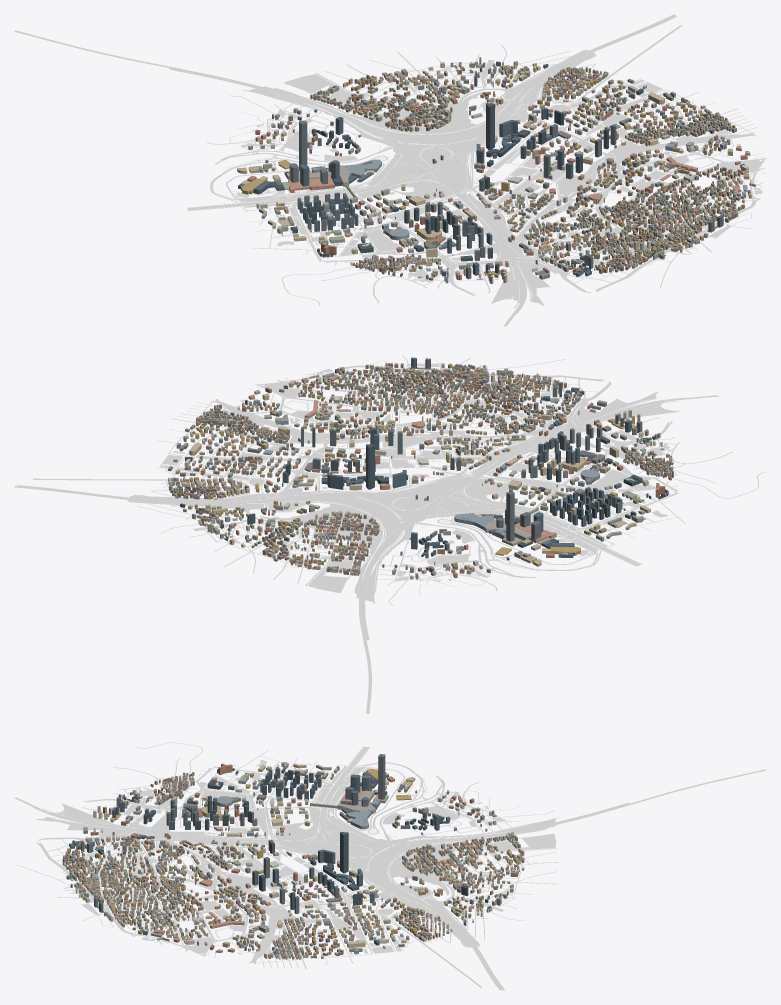
Rendered from city.glb.
The picture shows the model from 3 angles, top to bottom: view 1: azimuth 30°, elevation 25°; view 2: azimuth 150°, elevation 25°; view 3: azimuth 270°, elevation 25°; orthographic projection. The views are drawn at different scales.
Parts seen in each view (by area): view 1: city_buildings, roads, green, plots, rooftops; view 2: city_buildings, roads, green, plots, rooftops; view 3: city_buildings, roads, green, plots, rooftops.
Boxes of the visible parts, x1,y1,x2,y2 form: city_buildings: [237, 57, 755, 283]; roads: [14, 14, 766, 326]; green: [235, 49, 762, 305]; plots: [286, 104, 760, 288]; rooftops: [243, 57, 750, 278]; city_buildings: [168, 357, 673, 579]; roads: [14, 355, 766, 713]; green: [127, 363, 678, 601]; plots: [248, 382, 669, 567]; rooftops: [169, 363, 673, 576]; city_buildings: [62, 762, 524, 959]; roads: [14, 742, 766, 990]; green: [36, 766, 556, 962]; plots: [66, 790, 476, 952]; rooftops: [64, 764, 523, 956].
Bounding box in the file's own units: 4193 × 353 × 5371.
